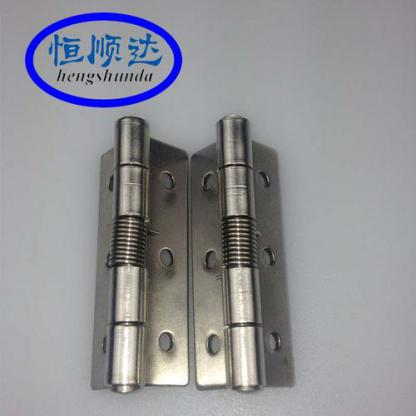FOD: (112, 216, 149, 267)
